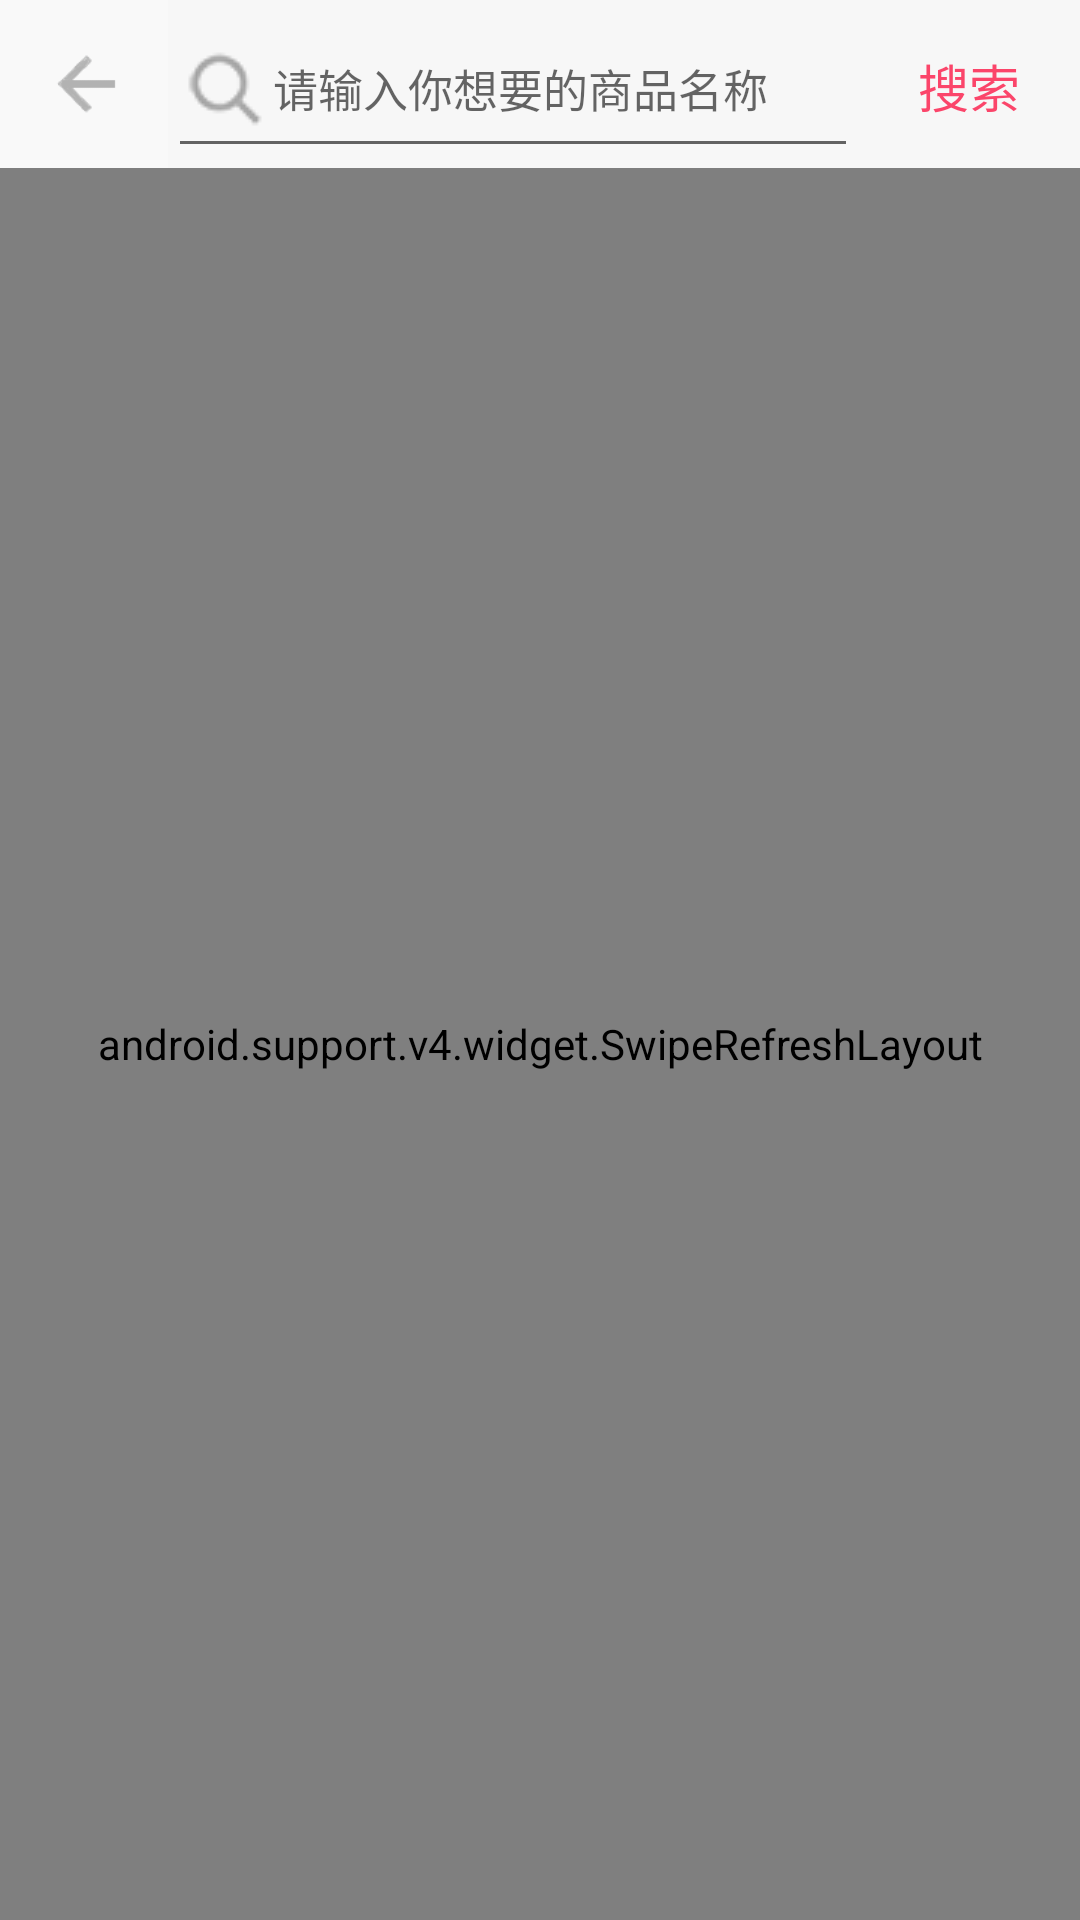

Icon bounding boxes for this 1080×1920 phone screenshot, format bbox=(x1, y1, x2, y2):
fanhui: bbox=(58, 56, 115, 112)
